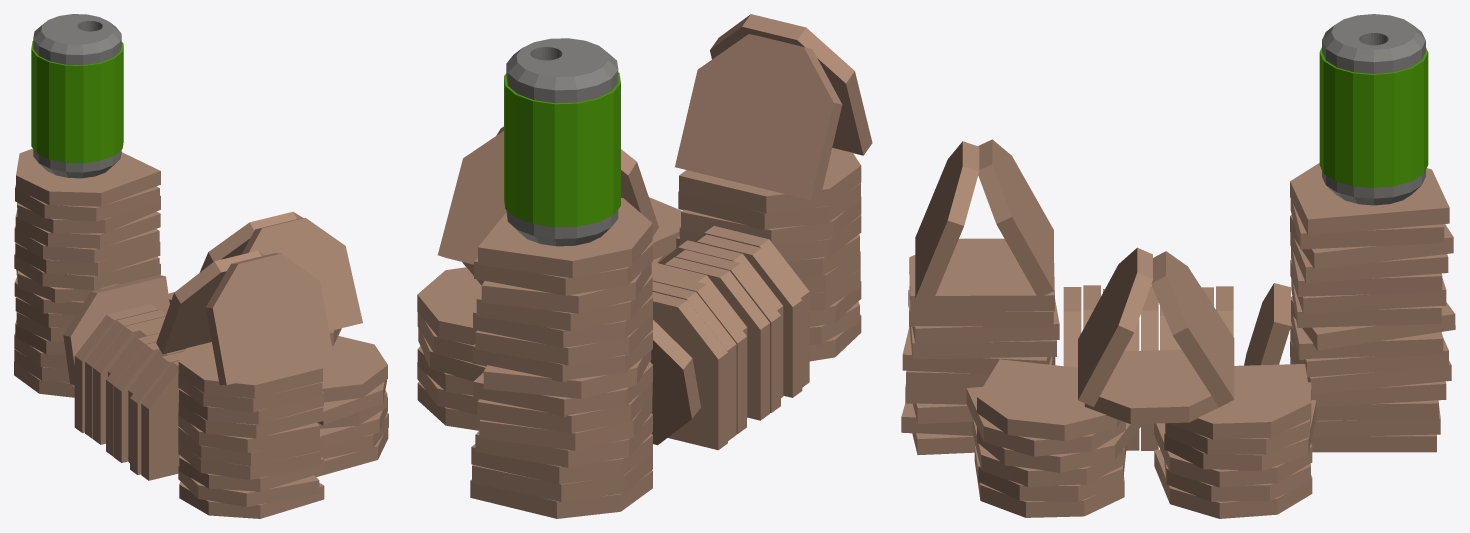
File: wieza _energol.fbx
The picture shows the model from 3 angles, left to right: view 1: azimuth 30°, elevation 25°; view 2: azimuth 150°, elevation 25°; view 3: azimuth 270°, elevation 25°; orthographic projection. The views are drawn at different scales.
Parts seen in each view (by area): view 1: Cube.011; view 2: Cube.011; view 3: Cube.011.
Part boxes in pixels (x1,y1,x2,y2): Cube.011: (14,14,388,518); Cube.011: (417,14,872,518); Cube.011: (901,14,1455,518).
Size of the model in its own units: 593 by 838 by 1067.
